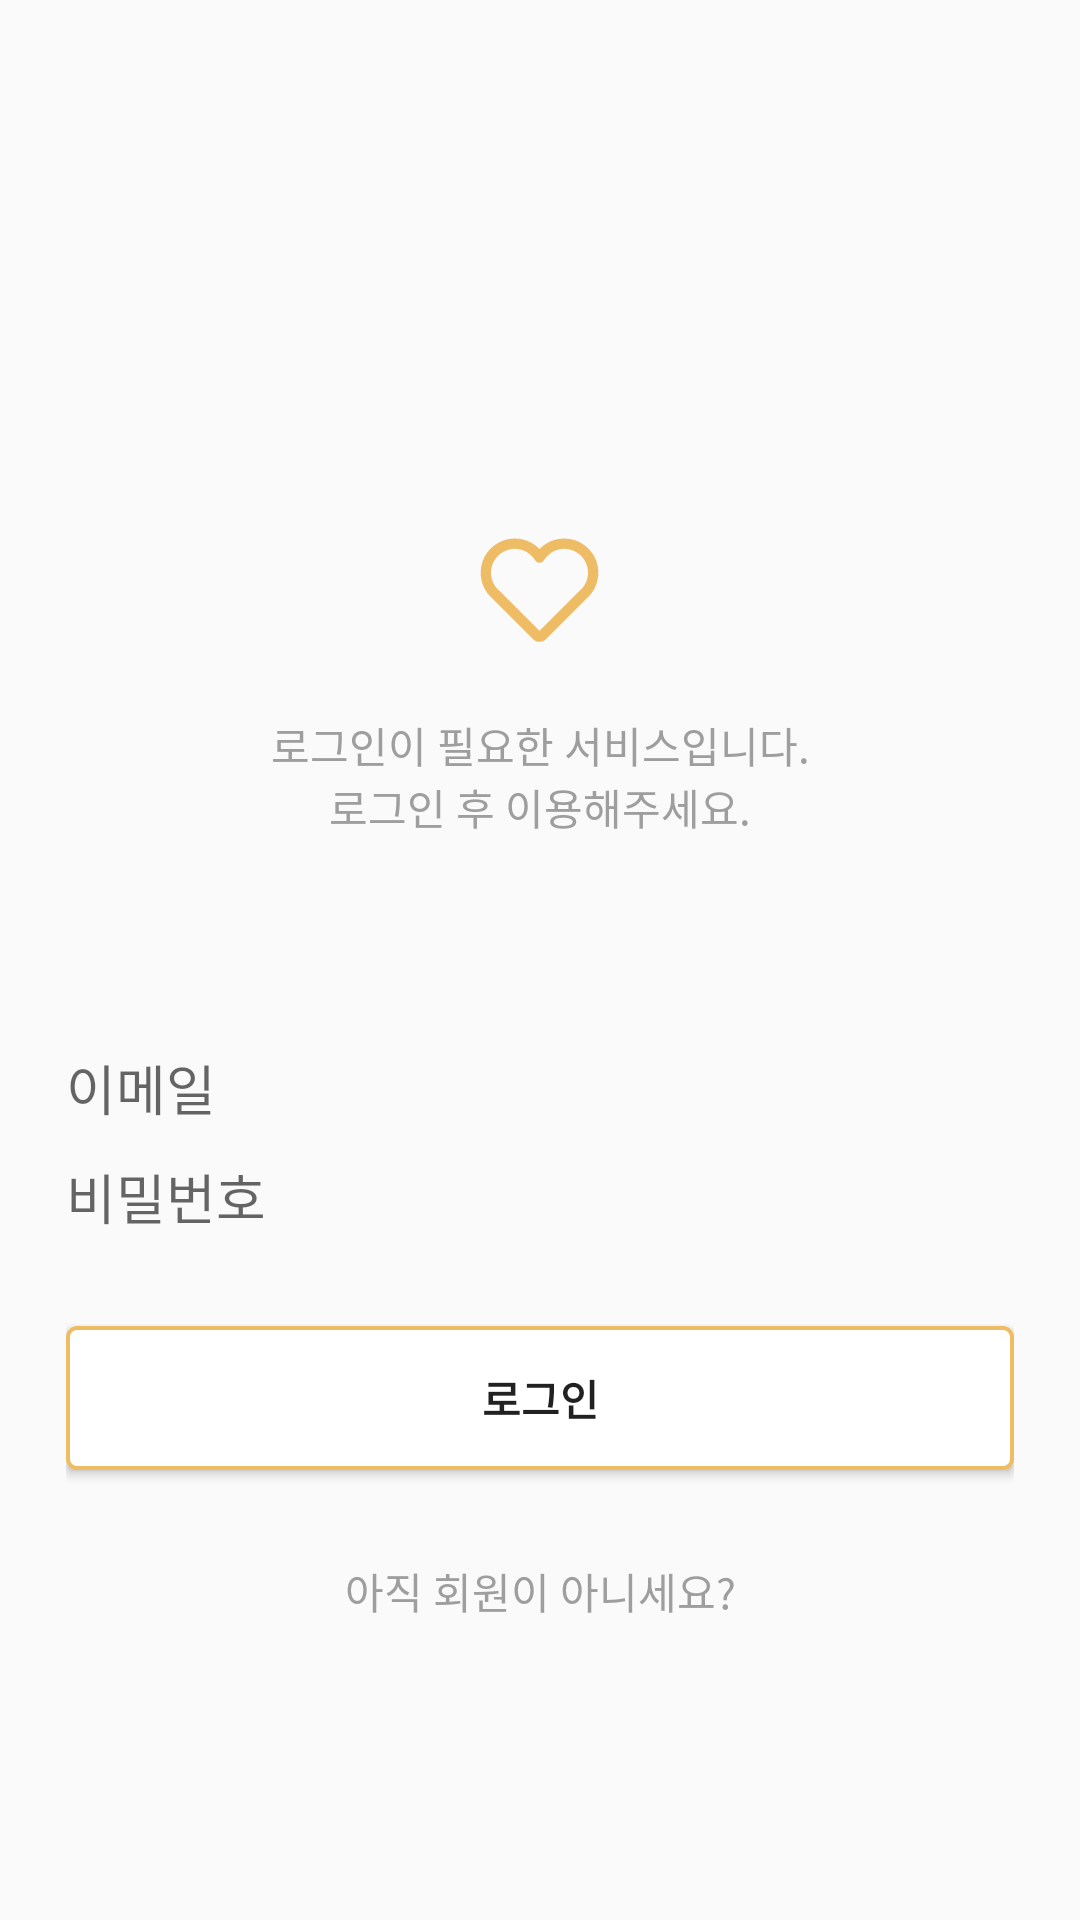

Where icons sit on this 1080px x 1920px app screen, as [x1=x1, y1=y1, x2=x2, y2=y2]:
heart brown: [x1=480, y1=538, x2=599, y2=642]
